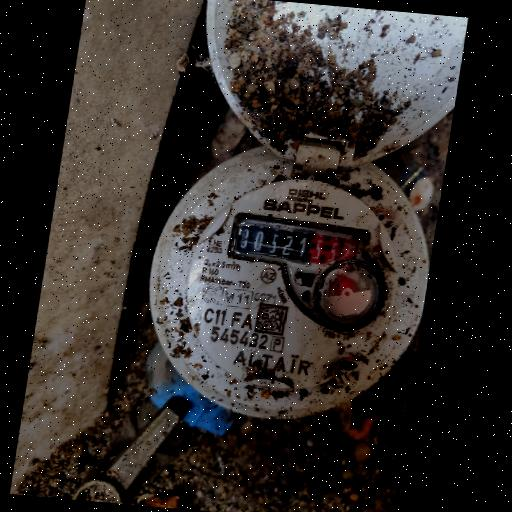0: (251, 226, 270, 254), (237, 224, 255, 253)
1: (293, 232, 314, 264)
2: (279, 230, 299, 260)
5: (308, 234, 328, 265), (324, 236, 343, 265), (265, 227, 283, 257)
7: (337, 234, 358, 264)
border_water_meter_number: (230, 217, 381, 276)
